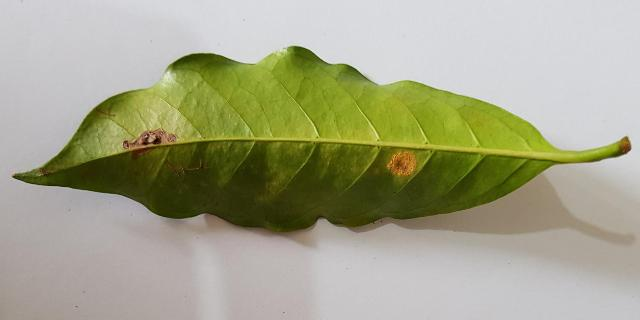cercospora: (122, 128, 178, 158), (388, 152, 416, 176)
